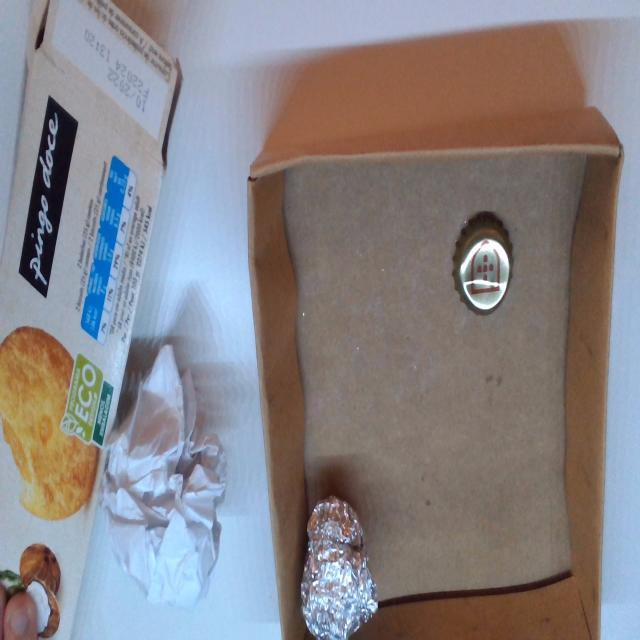Cardboard: (245, 107, 626, 640), (0, 0, 182, 640)
Paper: (104, 342, 228, 613)
